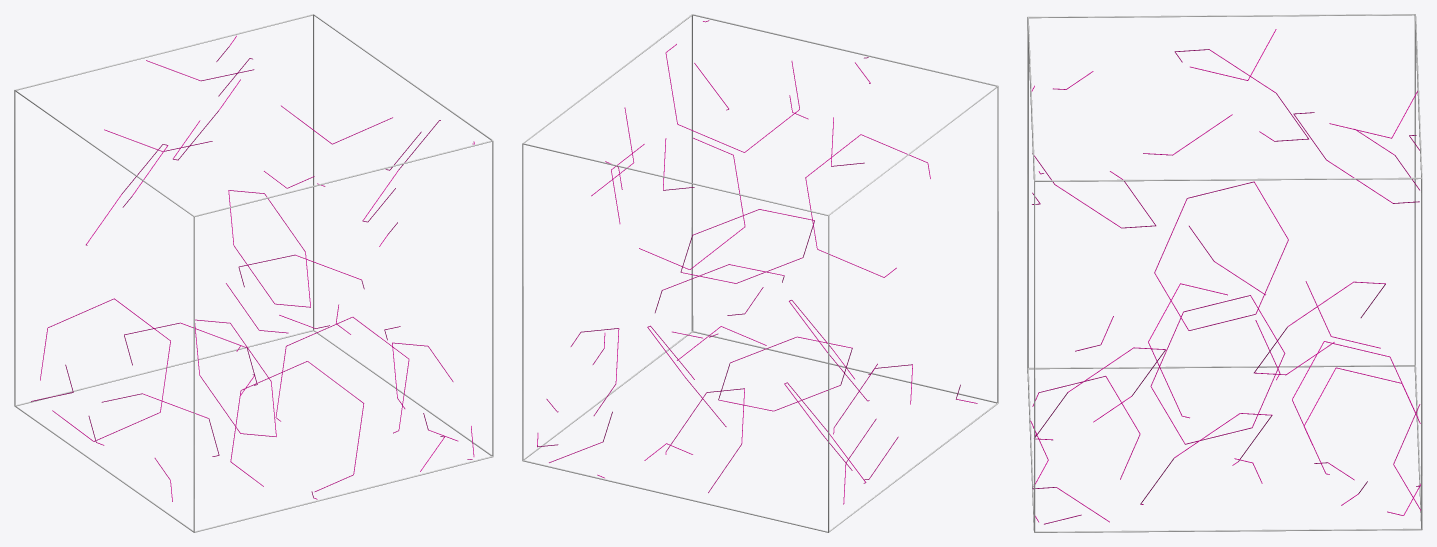
File: DDD_000 (1).glb
3 renders of one model, left to right at view 1: azimuth 30°, elevation 25°; view 2: azimuth 150°, elevation 25°; view 3: azimuth 270°, elevation 25°, orthographic. The views are drawn at different scales.
Visible parts, largest first — view 1: Shape_IndexedLineSet, Shape_IndexedLineSet.001; view 2: Shape_IndexedLineSet, Shape_IndexedLineSet.001; view 3: Shape_IndexedLineSet, Shape_IndexedLineSet.001.
Part boxes in pixels (x1,y1,x2,y2): Shape_IndexedLineSet: [14, 14, 493, 532]; Shape_IndexedLineSet.001: [31, 35, 474, 501]; Shape_IndexedLineSet: [522, 14, 998, 532]; Shape_IndexedLineSet.001: [537, 20, 977, 504]; Shape_IndexedLineSet: [1027, 14, 1422, 532]; Shape_IndexedLineSet.001: [1030, 29, 1420, 524].
Bounding box in the file's own units: 102 × 100 × 102.
